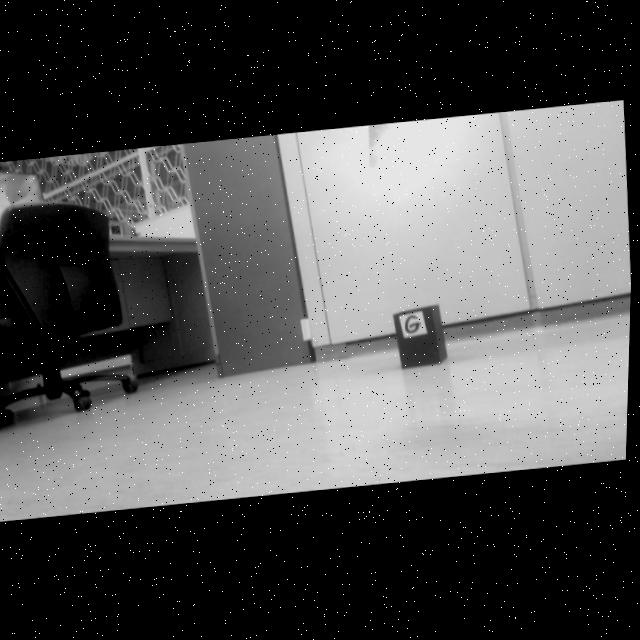G: (407, 317, 422, 336)
